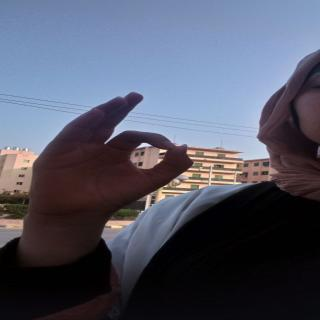Space: (26, 92, 196, 226)
